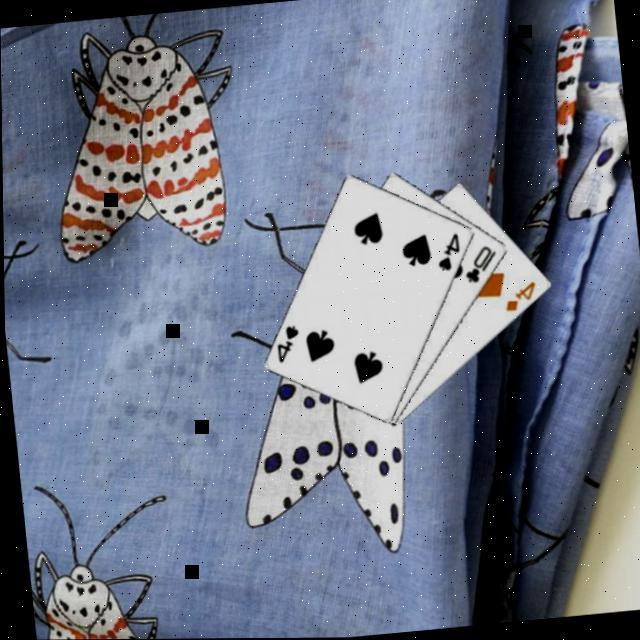10C: (457, 240, 500, 285)
4D: (498, 276, 539, 314)
4S: (269, 320, 303, 364), (430, 228, 462, 272)
